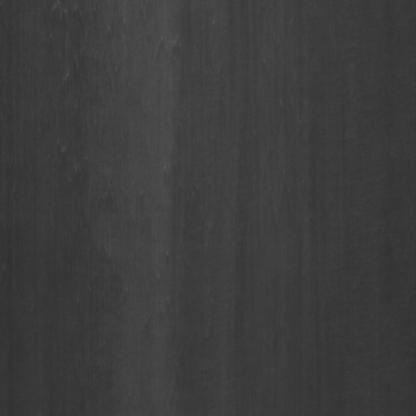silk_spot: (42, 24, 115, 182)
